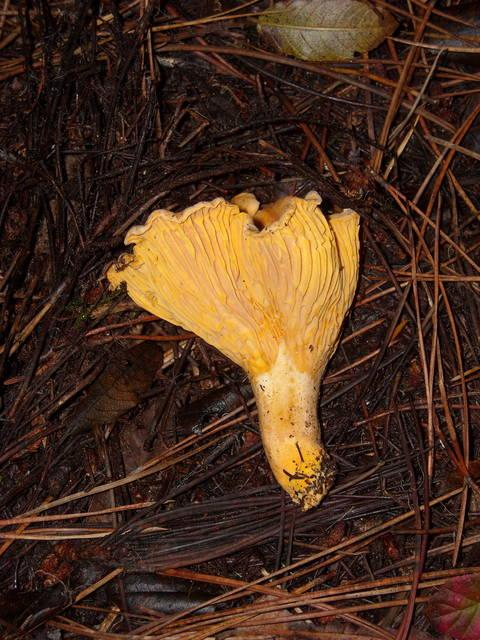Edible Mushroom: (104, 188, 362, 512)
